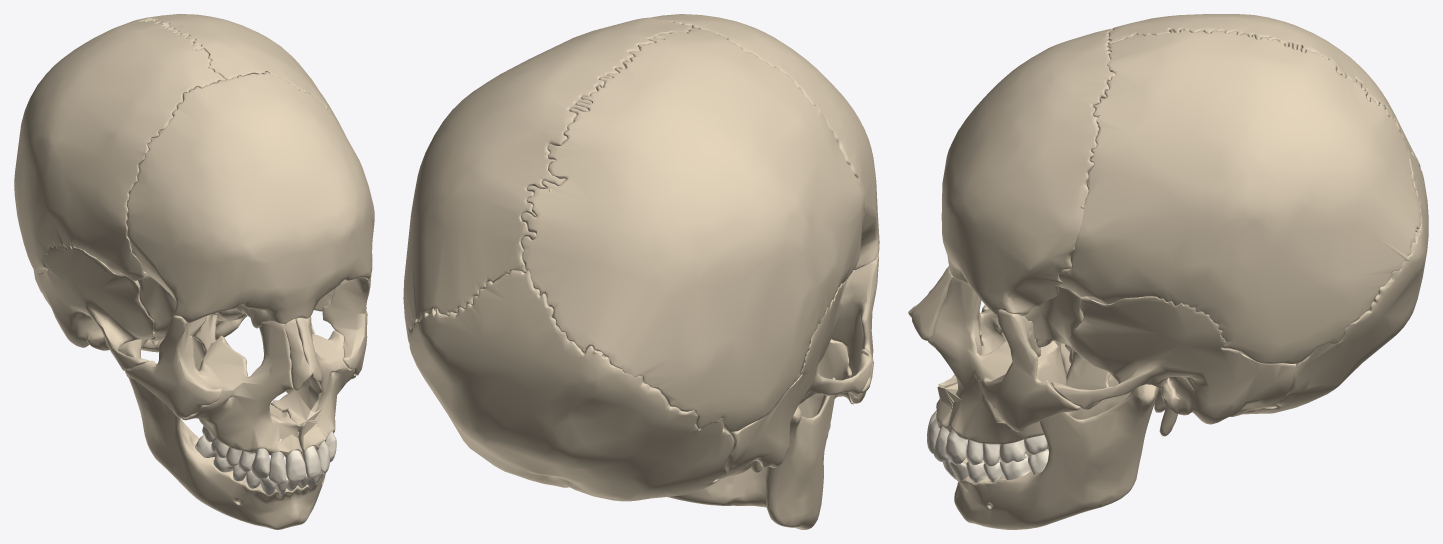
3 views of the same model, side by side, from view 1: azimuth 30°, elevation 25°; view 2: azimuth 150°, elevation 25°; view 3: azimuth 270°, elevation 25° (orthographic). The views are drawn at different scales.
Visible parts, largest first — view 1: FJ3200 · bone organ, FJ3380 · bone organ, FJ3375 · bone organ, FJ3289 · bone organ, FJ3386 · bone organ, FJ3274 · bone organ, FJ3269 · bone organ, FJ3392 · bone organ, FJ3394 · bone organ, FJ3287 · bone organ, FJ3378 · bone organ, FJ3272 · bone organ (+5 smaller); view 2: FJ3380 · bone organ, FJ3309 · bone organ, FJ3274 · bone organ, FJ3200 · bone organ, FJ3289 · bone organ, FJ3386 · bone organ, FJ3392 · bone organ, FJ3375 · bone organ; view 3: FJ3274 · bone organ, FJ3200 · bone organ, FJ3281 · bone organ, FJ3289 · bone organ, FJ3269 · bone organ, FJ3309 · bone organ, FJ3380 · bone organ, FJ3287 · bone organ, FJ3394 · bone organ, FJ3272 · bone organ, FJ3375 · bone organ.
Boxes of the visible parts, x1,y1,x2,y2 form: FJ3200 · bone organ: (126, 72, 374, 328); FJ3380 · bone organ: (14, 18, 225, 280); FJ3375 · bone organ: (182, 321, 302, 457); FJ3289 · bone organ: (118, 324, 325, 529); FJ3386 · bone organ: (33, 244, 154, 377); FJ3274 · bone organ: (138, 14, 345, 135); FJ3269 · bone organ: (271, 316, 355, 451); FJ3392 · bone organ: (125, 315, 222, 418); FJ3394 · bone organ: (138, 273, 344, 370); FJ3287 · bone organ: (322, 275, 371, 375); FJ3378 · bone organ: (284, 319, 312, 390); FJ3272 · bone organ: (295, 317, 322, 382); FJ3380 · bone organ: (521, 27, 864, 431); FJ3309 · bone organ: (408, 270, 734, 501); FJ3274 · bone organ: (403, 17, 692, 342); FJ3200 · bone organ: (651, 14, 879, 269); FJ3289 · bone organ: (668, 377, 835, 529); FJ3386 · bone organ: (717, 278, 872, 479); FJ3392 · bone organ: (831, 255, 878, 403); FJ3375 · bone organ: (798, 339, 854, 417); FJ3274 · bone organ: (1059, 29, 1420, 363); FJ3200 · bone organ: (941, 28, 1115, 315); FJ3281 · bone organ: (1051, 296, 1296, 436); FJ3289 · bone organ: (953, 343, 1159, 529); FJ3269 · bone organ: (928, 278, 1066, 444); FJ3309 · bone organ: (1241, 147, 1428, 414); FJ3380 · bone organ: (1108, 14, 1420, 168); FJ3287 · bone organ: (981, 309, 1080, 431); FJ3394 · bone organ: (1022, 286, 1110, 409); FJ3272 · bone organ: (911, 266, 953, 340); FJ3375 · bone organ: (936, 309, 1061, 411).
Bounding box in the file's own units: 2.36 × 3.35 × 3.26.
